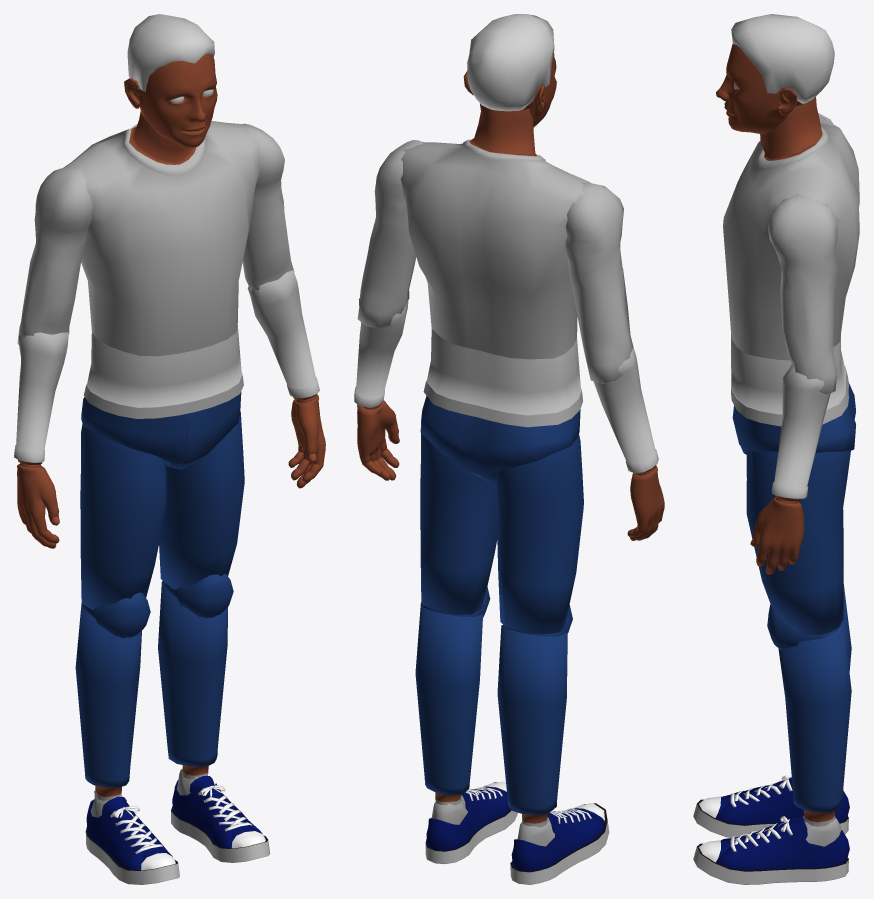
The model's file is mannequinMale.obj.
The picture shows the model from 3 angles, left to right: view 1: azimuth 30°, elevation 25°; view 2: azimuth 150°, elevation 25°; view 3: azimuth 270°, elevation 25°; orthographic projection.
Visible parts, largest first — view 1: sweethome3d_mannequin_chest_chest, sweethome3d_mannequin_pelvis_pelvis, sweethome3d_mannequin_right_thigh_rightThigh, sweethome3d_mannequin_left_leg_leftLeg, sweethome3d_mannequin_left_thigh_leftThigh, sweethome3d_mannequin_head_head, sweethome3d_mannequin_right_leg_rightLeg, sweethome3d_mannequin_right_arm_rightArm, sweethome3d_mannequin_right_foot_rightFoot, sweethome3d_mannequin_left_foot_leftFoot, sweethome3d_mannequin_left_arm_leftArm, sweethome3d_mannequin_right_forearm_rightForearm (+5 smaller); view 2: sweethome3d_mannequin_chest_chest, sweethome3d_mannequin_pelvis_pelvis, sweethome3d_mannequin_right_thigh_rightThigh, sweethome3d_mannequin_right_leg_rightLeg, sweethome3d_mannequin_left_thigh_leftThigh, sweethome3d_mannequin_left_leg_leftLeg, sweethome3d_mannequin_right_arm_rightArm, sweethome3d_mannequin_head_head, sweethome3d_mannequin_left_arm_leftArm, sweethome3d_mannequin_right_foot_rightFoot, sweethome3d_mannequin_left_foot_leftFoot, sweethome3d_mannequin_right_forearm_rightForearm (+3 smaller); view 3: sweethome3d_mannequin_chest_chest, sweethome3d_mannequin_left_thigh_leftThigh, sweethome3d_mannequin_left_leg_leftLeg, sweethome3d_mannequin_head_head, sweethome3d_mannequin_left_arm_leftArm, sweethome3d_mannequin_left_foot_leftFoot, sweethome3d_mannequin_pelvis_pelvis, sweethome3d_mannequin_left_forearm_leftForearm, sweethome3d_mannequin_right_foot_rightFoot, sweethome3d_mannequin_left_hand_leftHand, sweethome3d_mannequin_left_knee_leftKnee, sweethome3d_mannequin_right_leg_rightLeg.
Part boxes in pixels (x1,y1,x2,y2): sweethome3d_mannequin_chest_chest: [63, 111, 259, 356]; sweethome3d_mannequin_pelvis_pelvis: [81, 325, 243, 469]; sweethome3d_mannequin_right_thigh_rightThigh: [80, 424, 166, 609]; sweethome3d_mannequin_left_leg_leftLeg: [158, 580, 227, 779]; sweethome3d_mannequin_left_thigh_leftThigh: [159, 411, 244, 589]; sweethome3d_mannequin_head_head: [124, 14, 217, 147]; sweethome3d_mannequin_right_leg_rightLeg: [75, 601, 141, 801]; sweethome3d_mannequin_right_arm_rightArm: [17, 167, 92, 344]; sweethome3d_mannequin_right_foot_rightFoot: [85, 791, 179, 884]; sweethome3d_mannequin_left_foot_leftFoot: [171, 769, 270, 862]; sweethome3d_mannequin_left_arm_leftArm: [242, 123, 294, 290]; sweethome3d_mannequin_right_forearm_rightForearm: [14, 332, 68, 465]; sweethome3d_mannequin_chest_chest: [400, 103, 591, 359]; sweethome3d_mannequin_pelvis_pelvis: [421, 329, 582, 481]; sweethome3d_mannequin_right_thigh_rightThigh: [495, 434, 583, 633]; sweethome3d_mannequin_right_leg_rightLeg: [497, 624, 567, 827]; sweethome3d_mannequin_left_thigh_leftThigh: [420, 429, 497, 614]; sweethome3d_mannequin_left_leg_leftLeg: [415, 602, 482, 805]; sweethome3d_mannequin_right_arm_rightArm: [565, 183, 633, 383]; sweethome3d_mannequin_head_head: [463, 14, 556, 127]; sweethome3d_mannequin_left_arm_leftArm: [357, 140, 423, 328]; sweethome3d_mannequin_right_foot_rightFoot: [510, 803, 609, 884]; sweethome3d_mannequin_left_foot_leftFoot: [425, 781, 517, 863]; sweethome3d_mannequin_right_forearm_rightForearm: [593, 347, 658, 473]; sweethome3d_mannequin_chest_chest: [723, 97, 859, 360]; sweethome3d_mannequin_left_thigh_leftThigh: [746, 450, 850, 634]; sweethome3d_mannequin_left_leg_leftLeg: [778, 620, 851, 826]; sweethome3d_mannequin_head_head: [716, 14, 834, 134]; sweethome3d_mannequin_left_arm_leftArm: [768, 193, 837, 393]; sweethome3d_mannequin_left_foot_leftFoot: [693, 815, 849, 884]; sweethome3d_mannequin_pelvis_pelvis: [731, 334, 855, 456]; sweethome3d_mannequin_left_forearm_leftForearm: [771, 364, 830, 501]; sweethome3d_mannequin_right_foot_rightFoot: [693, 775, 849, 837]; sweethome3d_mannequin_left_hand_leftHand: [750, 497, 804, 574]; sweethome3d_mannequin_left_knee_leftKnee: [767, 604, 841, 649]; sweethome3d_mannequin_right_leg_rightLeg: [843, 584, 851, 671].
Size of the model in its own units: 71.31 by 188 by 34.2.
